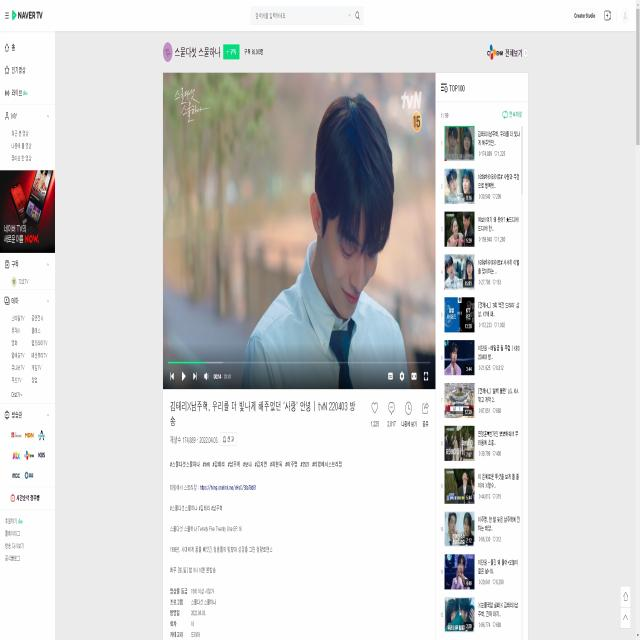content: (164, 391, 433, 640)
control-bar: (166, 353, 432, 388)
search: (249, 6, 364, 24)
